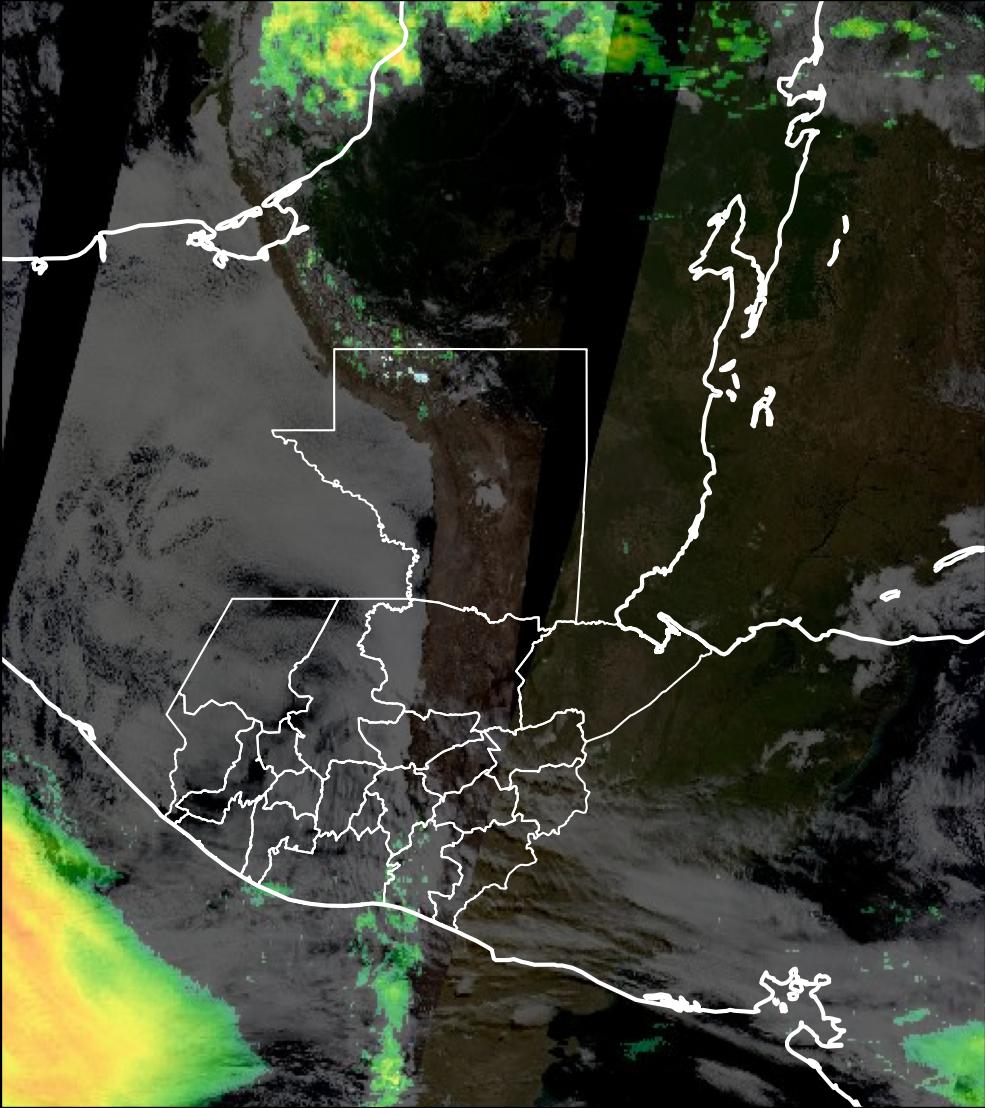precipitacion: (1, 814, 194, 1108)
